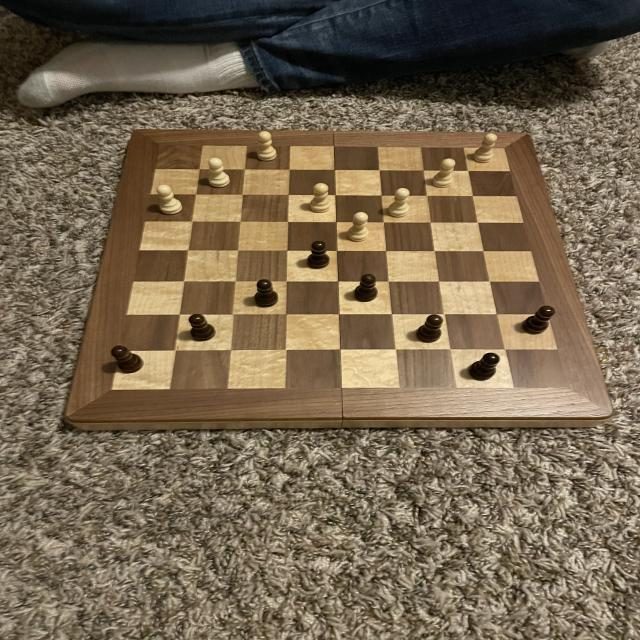black-knight: (106, 344, 148, 376), (520, 303, 558, 338), (463, 350, 502, 383), (412, 313, 447, 346), (188, 310, 218, 346), (252, 278, 284, 311), (351, 271, 382, 305), (303, 239, 333, 273)
white-knight: (152, 182, 186, 220), (252, 126, 279, 168), (342, 210, 373, 246), (468, 132, 501, 165), (204, 155, 233, 191), (427, 156, 459, 188), (307, 180, 336, 215), (384, 187, 414, 220)
